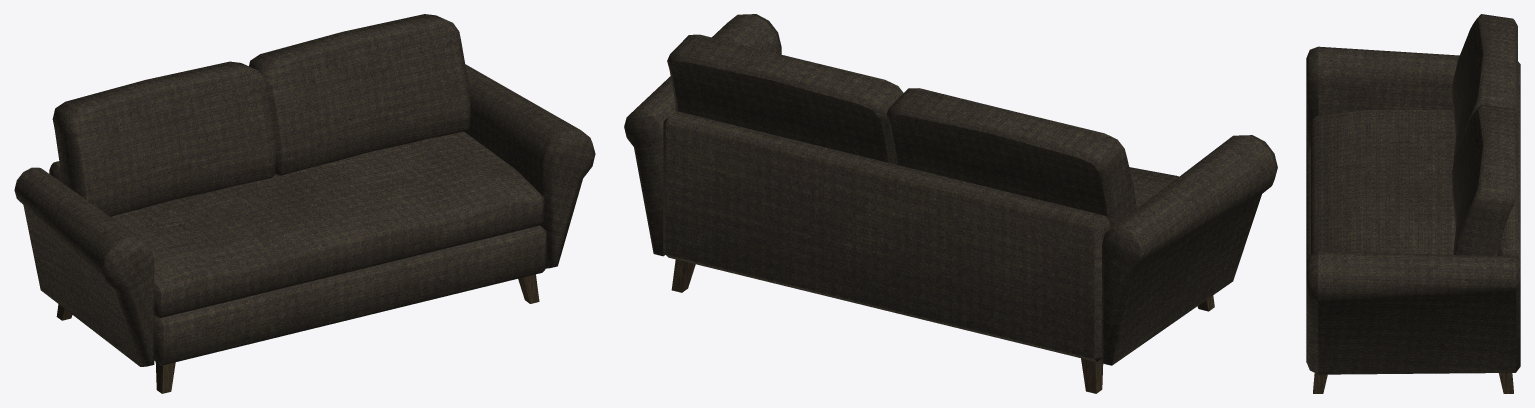
File: sofa_5_3.glb
3 renders of one model, left to right at view 1: azimuth 30°, elevation 25°; view 2: azimuth 150°, elevation 25°; view 3: azimuth 270°, elevation 25°, orthographic. The views are drawn at different scales.
Visible parts, largest first — view 1: sofa_5_3; view 2: sofa_5_3; view 3: sofa_5_3.
Boxes of the visible parts, left/top/right/bottom form: sofa_5_3: left=14, top=14, right=595, bottom=393; sofa_5_3: left=624, top=14, right=1277, bottom=393; sofa_5_3: left=1306, top=14, right=1520, bottom=393.
Bounding box in the file's own units: 2.49 × 1.07 × 0.99.
Materials: 2 (2 with a texture image).
